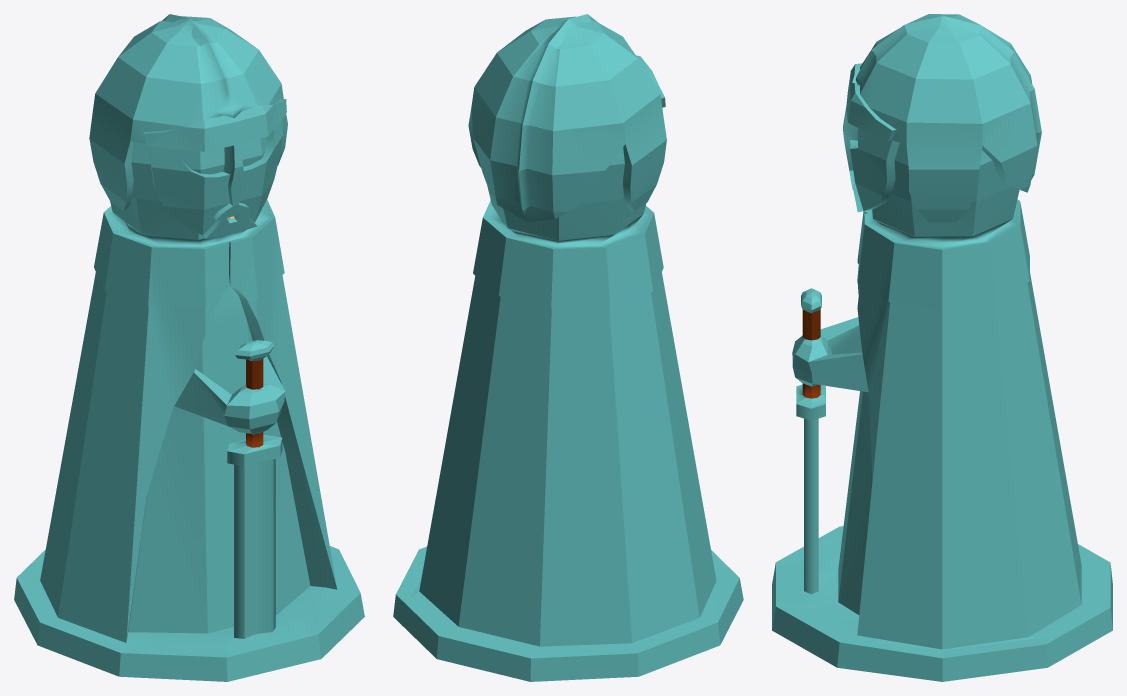
The model's file is VikingKing.fbx.
3 renders of one model, left to right at view 1: azimuth 30°, elevation 25°; view 2: azimuth 150°, elevation 25°; view 3: azimuth 270°, elevation 25°, orthographic.
Visible parts, largest first — view 1: King; view 2: King; view 3: King.
Boxes of the visible parts, x1=… form: King: x1=14, y1=14, x2=364, y2=681; King: x1=393, y1=14, x2=743, y2=681; King: x1=772, y1=14, x2=1112, y2=681.
Size of the model in its own units: 6.07 by 11.25 by 5.88.
